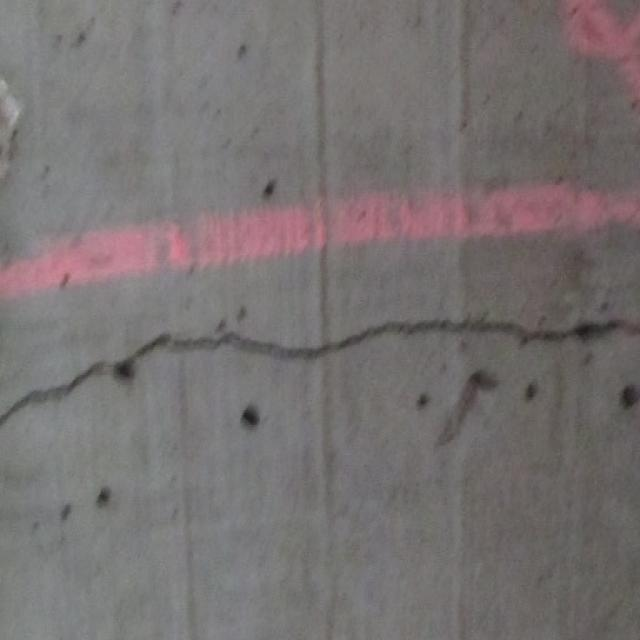Transverse: (0, 306, 640, 442)
